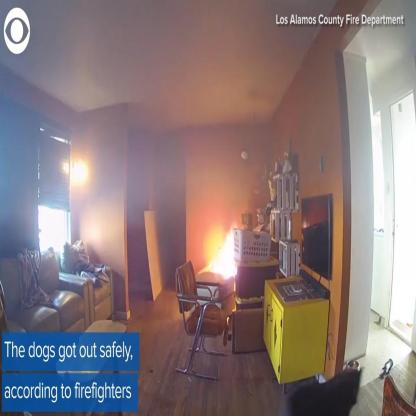fire: (207, 229, 238, 280)
